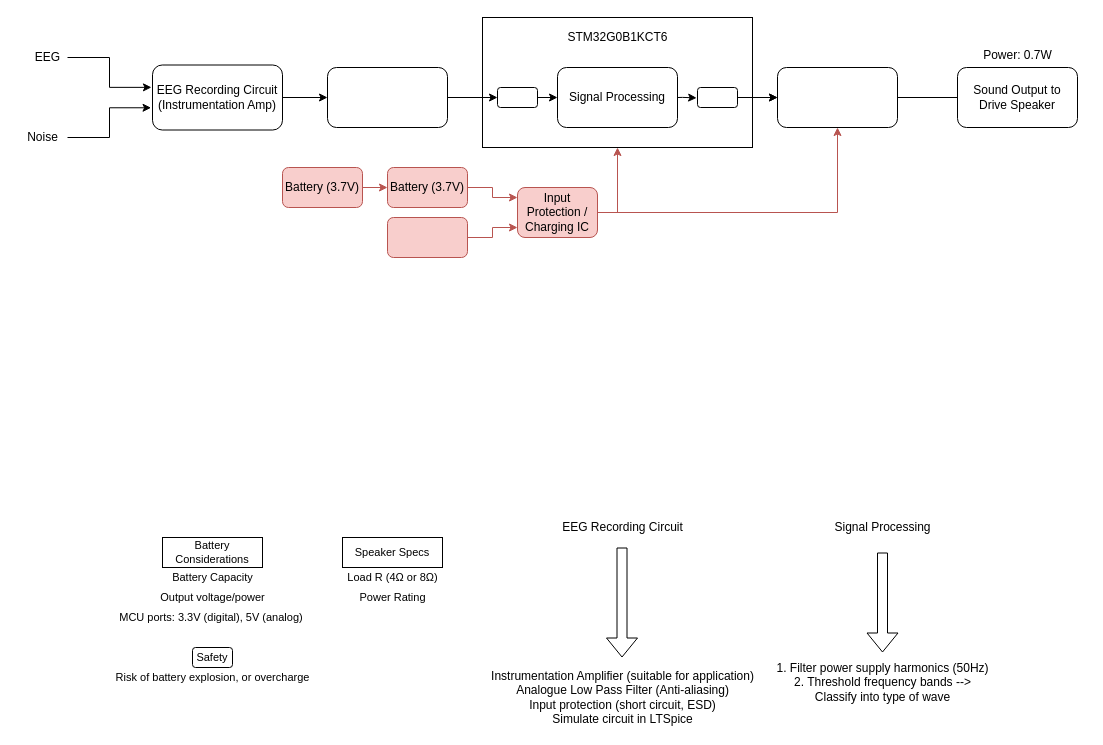
The diagram is 1103 pixels wide and 745 high, and some of its shapes have lost their labels. Here are the shapes that lost their labels. From the top down, the box of each, then its label:
(326, 66, 448, 128): Anti-aliasing Filter
(496, 86, 538, 108): ADC
(696, 86, 738, 108): DAC
(776, 66, 898, 128): Class A/AB Amp
(386, 216, 468, 258): Type C power
